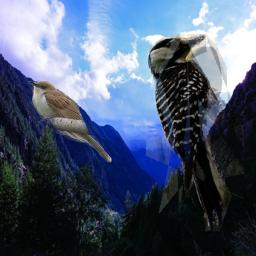Cuckoo: (28, 81, 112, 163)
Woodpecker: (146, 34, 244, 234)
